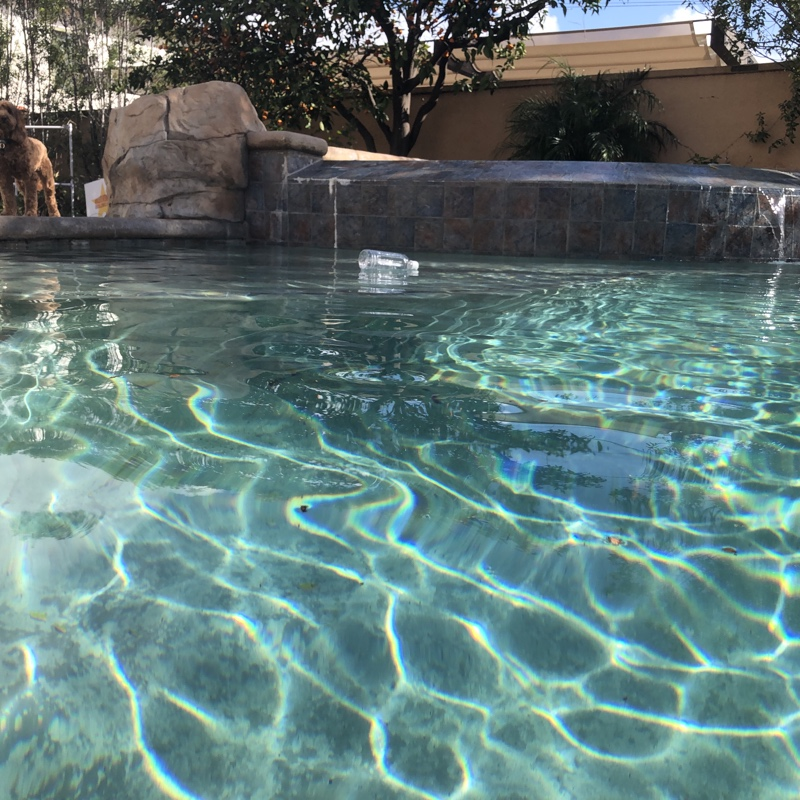Plastic Bottle: (353, 244, 422, 280)
